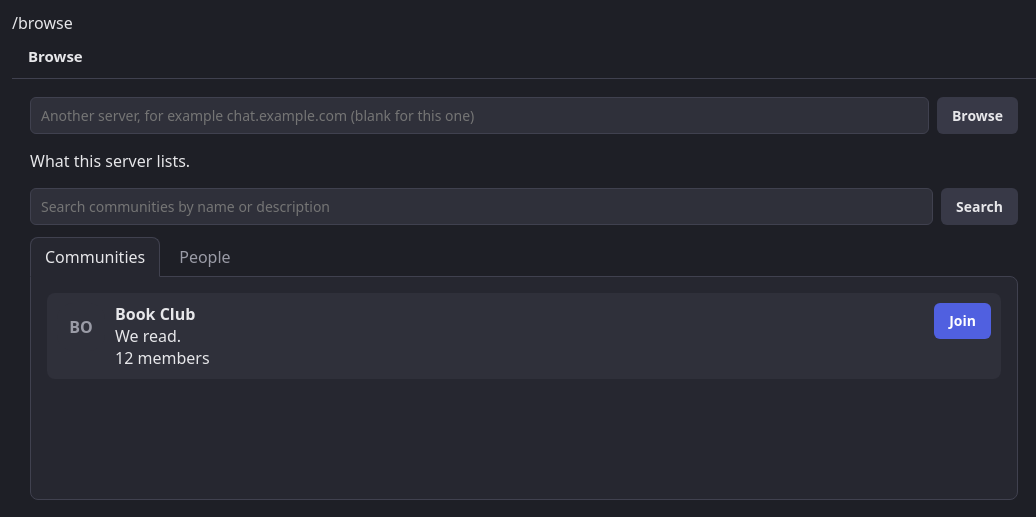
Browse: this server's communities › searches, and says when nothing matches
Expected: the text "Book Club" is shown, [115, 303, 195, 325]
Type "  chess " into the search field labelled "Search communities" at (482, 206), box [30, 188, 933, 225]
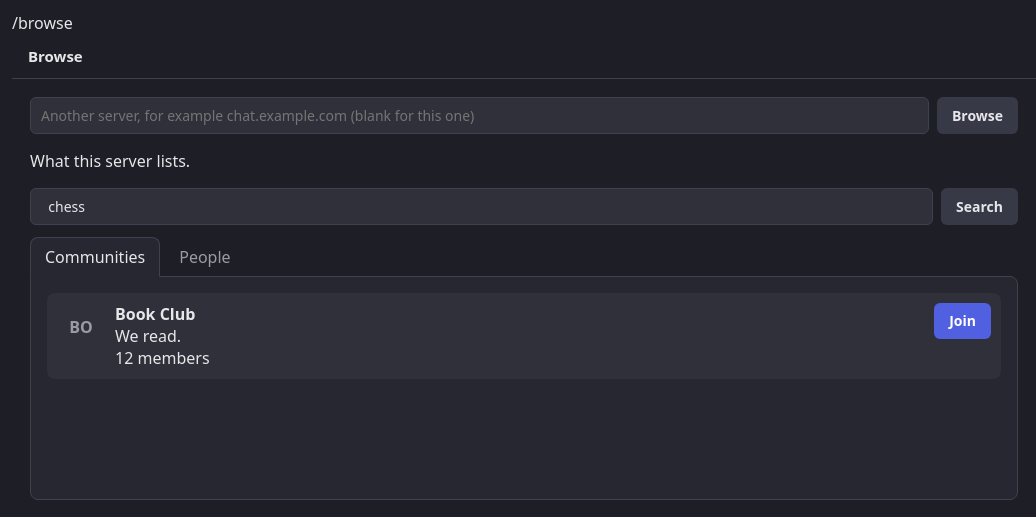
Click the button "Search" at (980, 206), box [941, 188, 1018, 225]
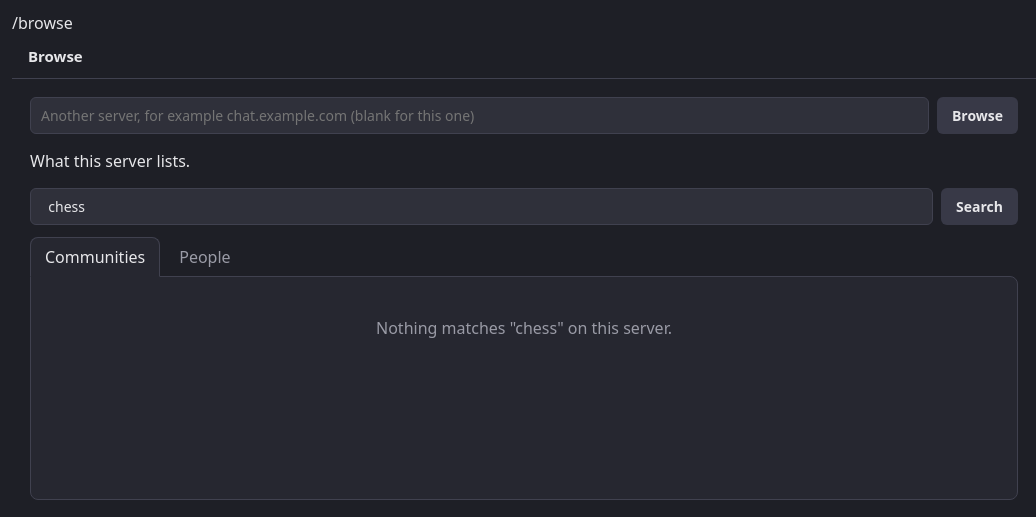
Now the text "Nothing matches \"chess\" on this server." is shown, box [376, 317, 672, 339]
